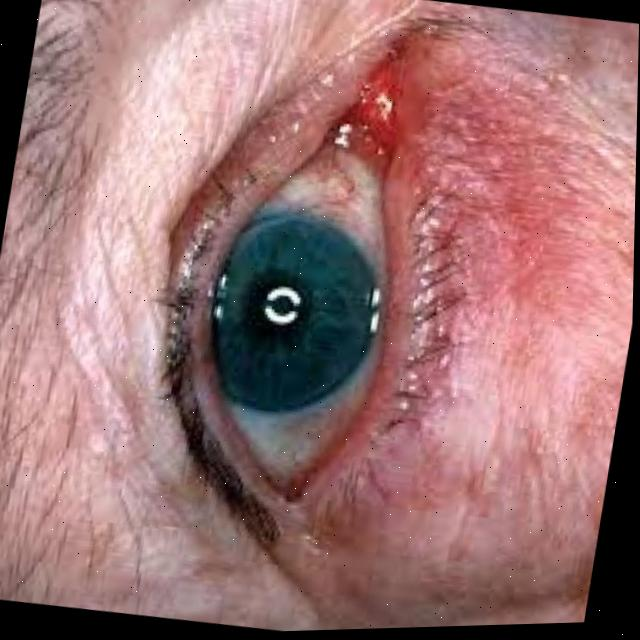Rosacea: (448, 132, 552, 243)
